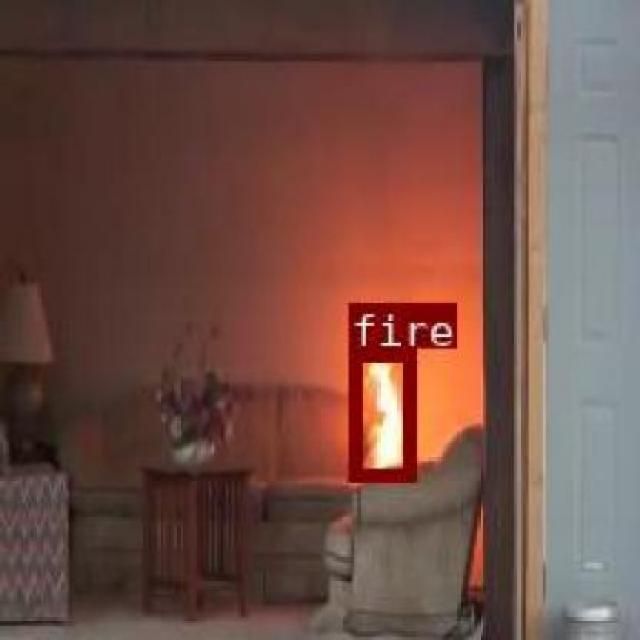Fire: (348, 347, 414, 478)
